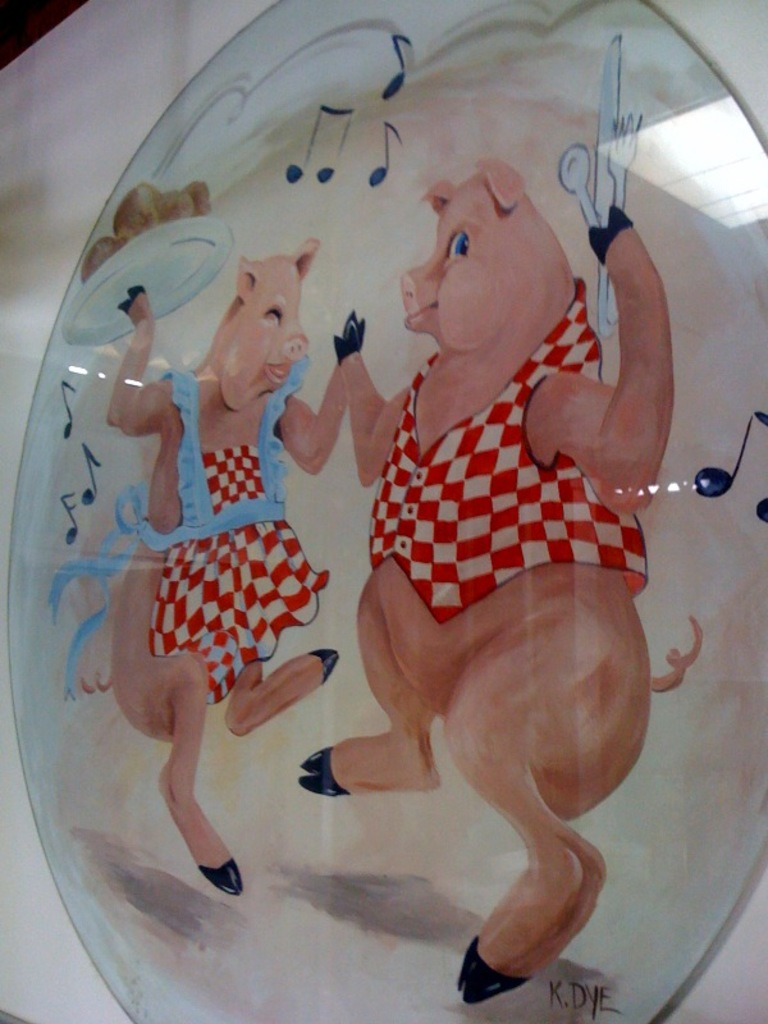plate: (21, 28, 687, 958)
